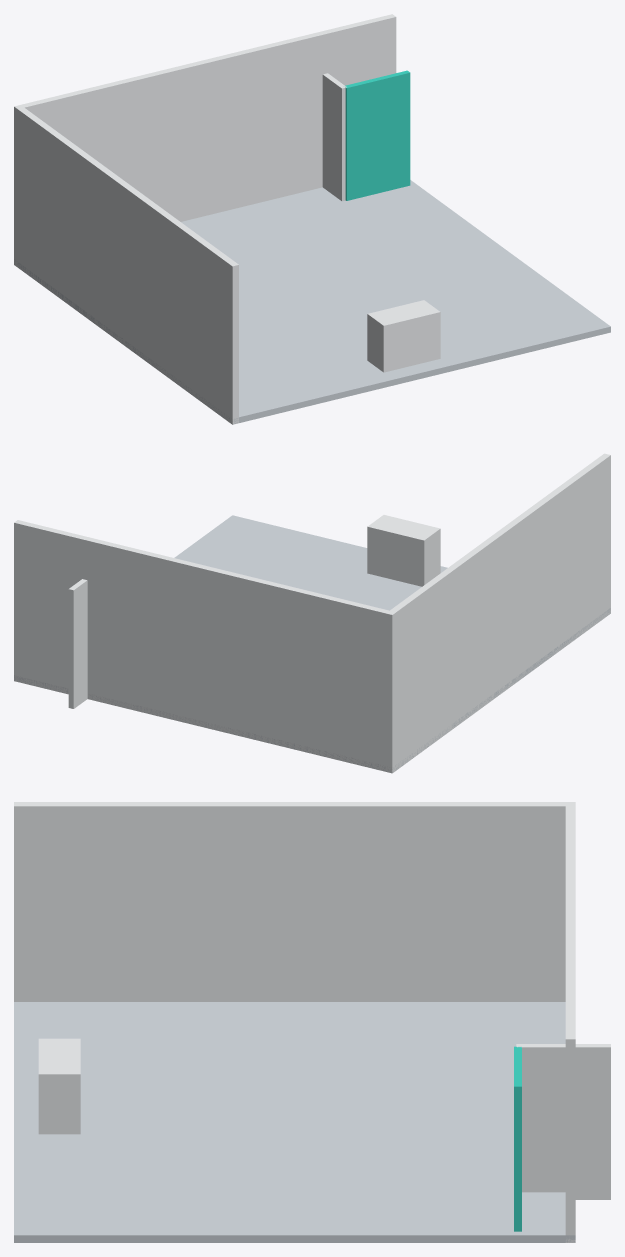
3 renders of one model, top to bottom at view 1: azimuth 30°, elevation 25°; view 2: azimuth 150°, elevation 25°; view 3: azimuth 270°, elevation 25°, orthographic. The views are drawn at different scales.
Parts seen in each view (by area): view 1: Exhibition Booth Concept; view 2: Exhibition Booth Concept; view 3: Exhibition Booth Concept.
Part boxes in pixels (x1,y1,x2,y2): Exhibition Booth Concept: (14, 14, 610, 424); Exhibition Booth Concept: (14, 453, 610, 773); Exhibition Booth Concept: (14, 802, 610, 1242).
Bounding box in the file's own units: 8 × 3.2 × 8.51.
